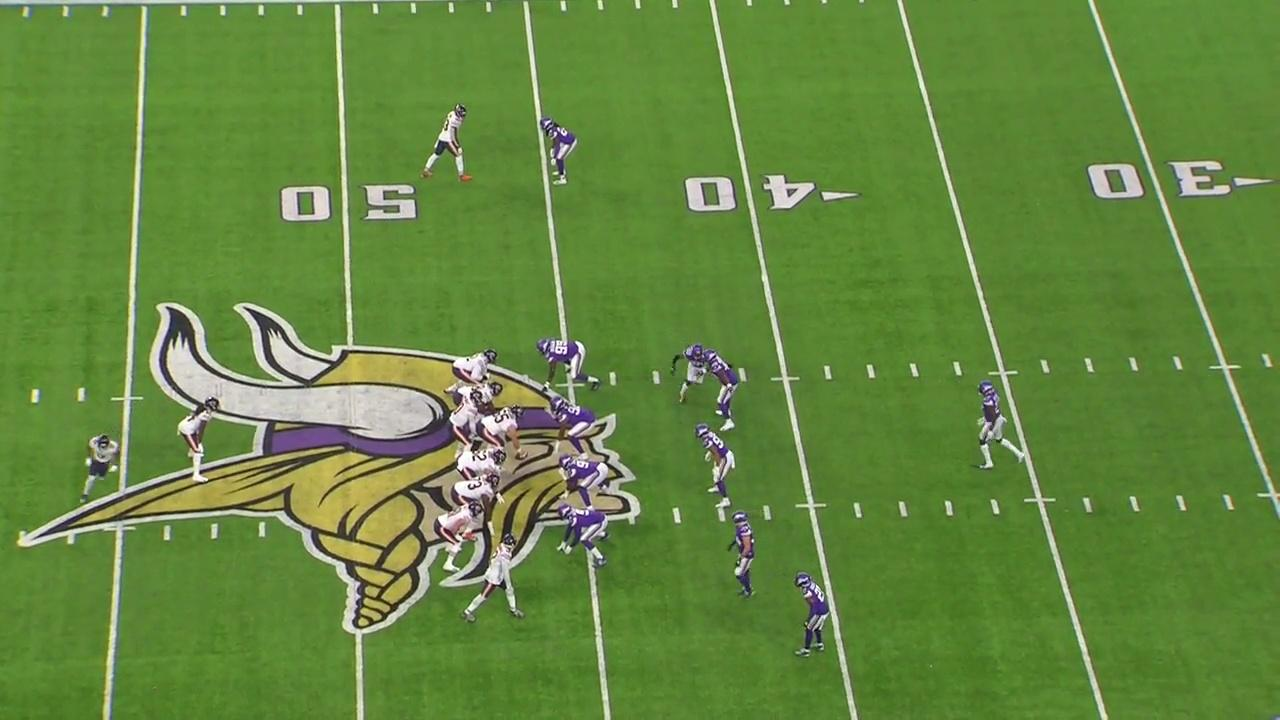player: (459, 531, 527, 623), (969, 379, 1026, 471), (419, 102, 476, 185), (529, 333, 603, 395), (174, 394, 223, 487), (433, 499, 486, 575), (555, 503, 612, 571), (693, 423, 737, 510), (790, 570, 831, 659), (76, 430, 122, 508), (448, 473, 503, 537), (547, 396, 602, 459), (555, 452, 611, 511), (704, 345, 741, 433), (475, 402, 529, 462), (536, 114, 578, 189), (727, 510, 761, 602), (443, 347, 501, 397), (448, 388, 487, 462), (668, 344, 714, 406), (453, 447, 509, 482), (452, 380, 506, 416)
